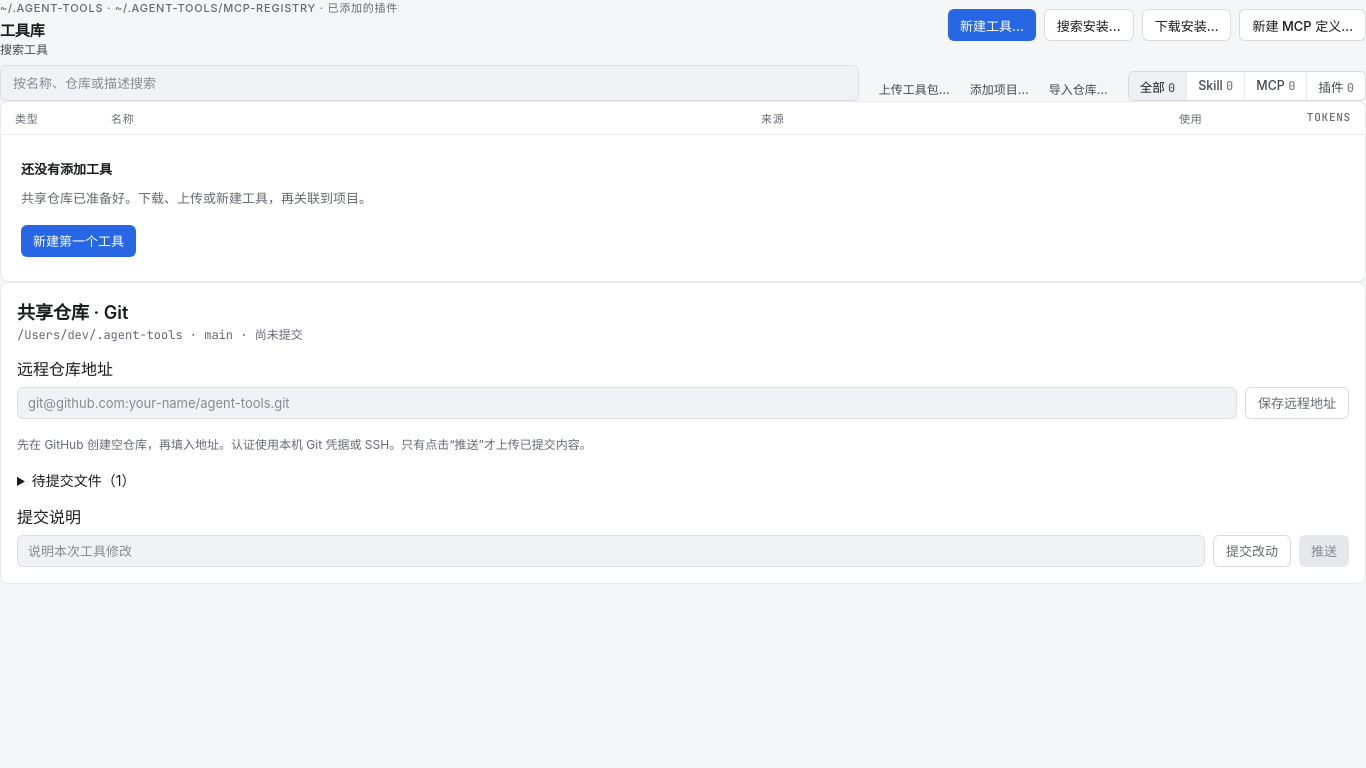
Scenario: first-run empty state › shows initialization guidance instead of a search-empty message or demo entries
The image size is (1366, 768).
Expected: the text "还没有添加工具" is shown, [21,161,112,177]
Expected: the tab "全部 0" is shown, [1129,72,1186,100]
Click the button "新建第一个工具": (78, 241) [21,225,136,257]
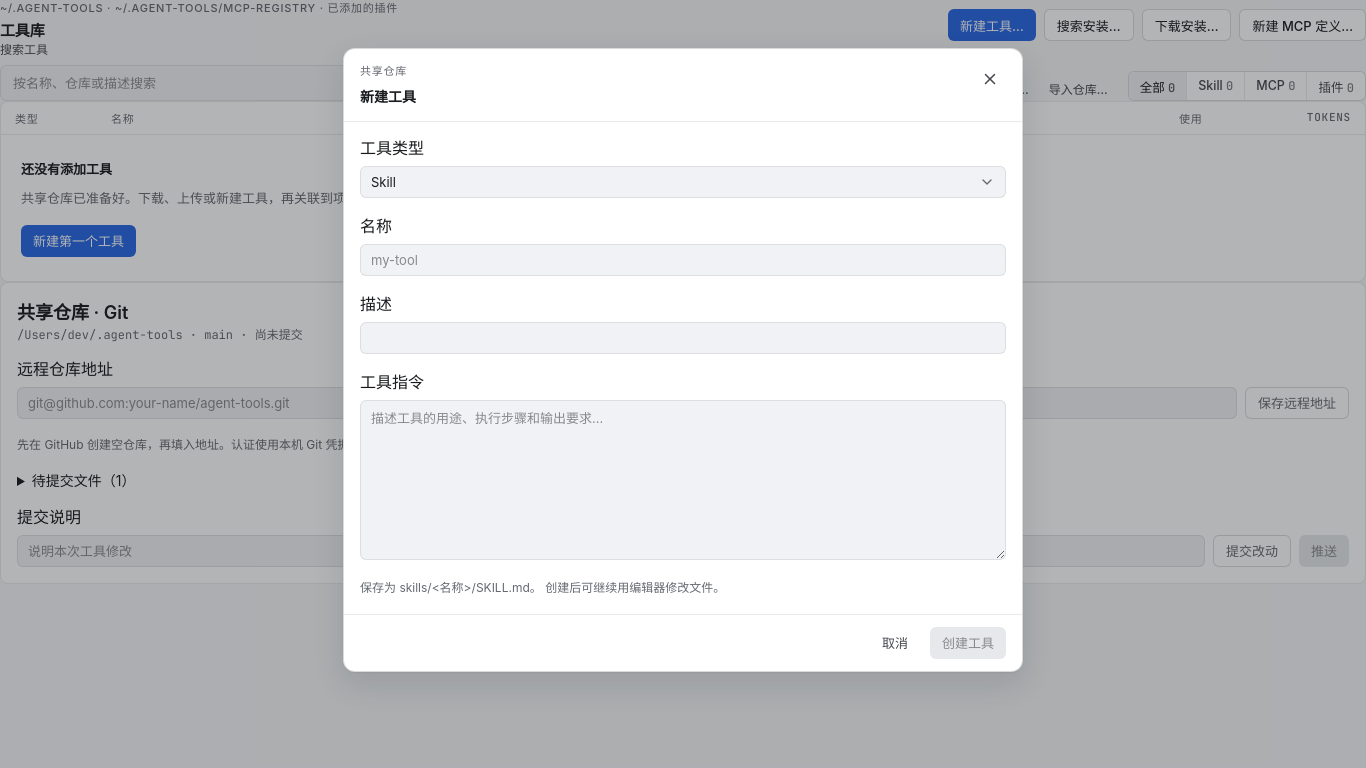
Expected: the dialog "新建工具" is shown, [343,48,1023,672]
